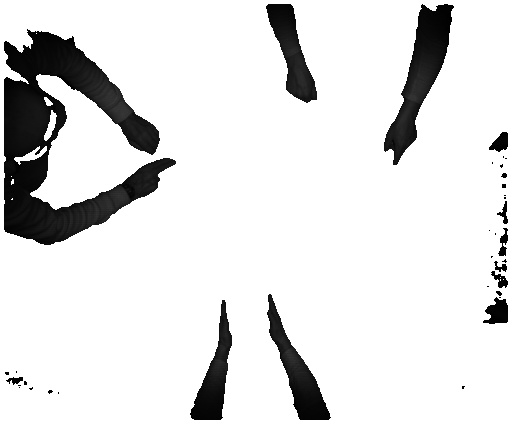fist: (123, 113, 167, 157), (280, 69, 319, 103)
hand: (384, 117, 423, 167), (132, 157, 175, 202)
spine: (264, 294, 291, 344), (216, 296, 231, 348)
